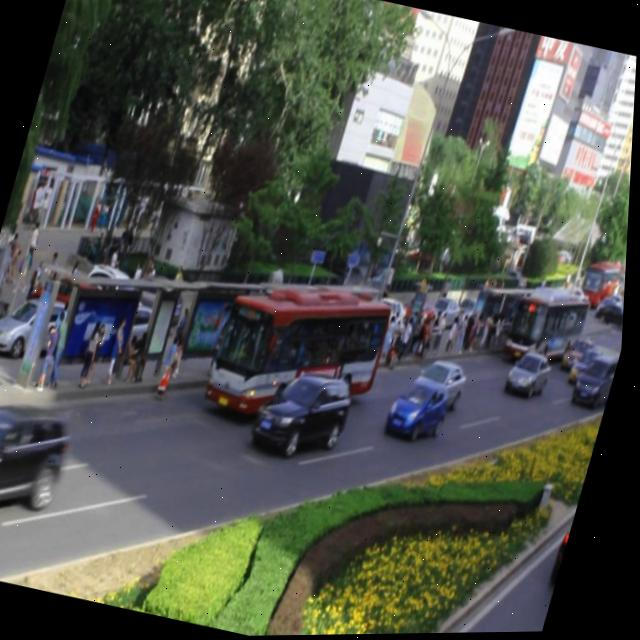car: (0, 383, 82, 531), (252, 357, 360, 462), (386, 370, 456, 442), (413, 351, 472, 409), (507, 344, 559, 397), (573, 343, 611, 384), (564, 332, 601, 371)
truck: (576, 348, 624, 409)
van: (207, 261, 400, 438), (505, 288, 592, 373)
